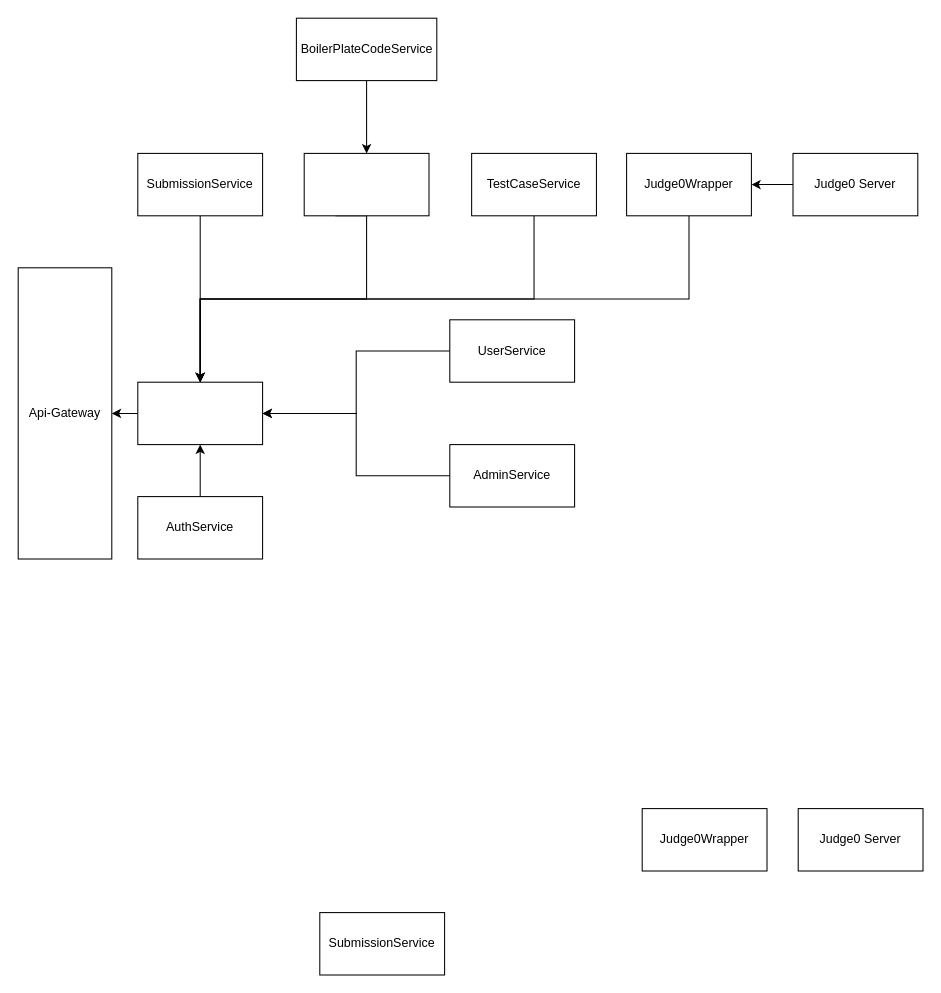
This 941x993 diagram has some shape labels left out. Each missing label, with the centre of its shape:
"Discovery Eureka Server" goes at (200,413).
"QuestionSerivce" goes at (366,184).
